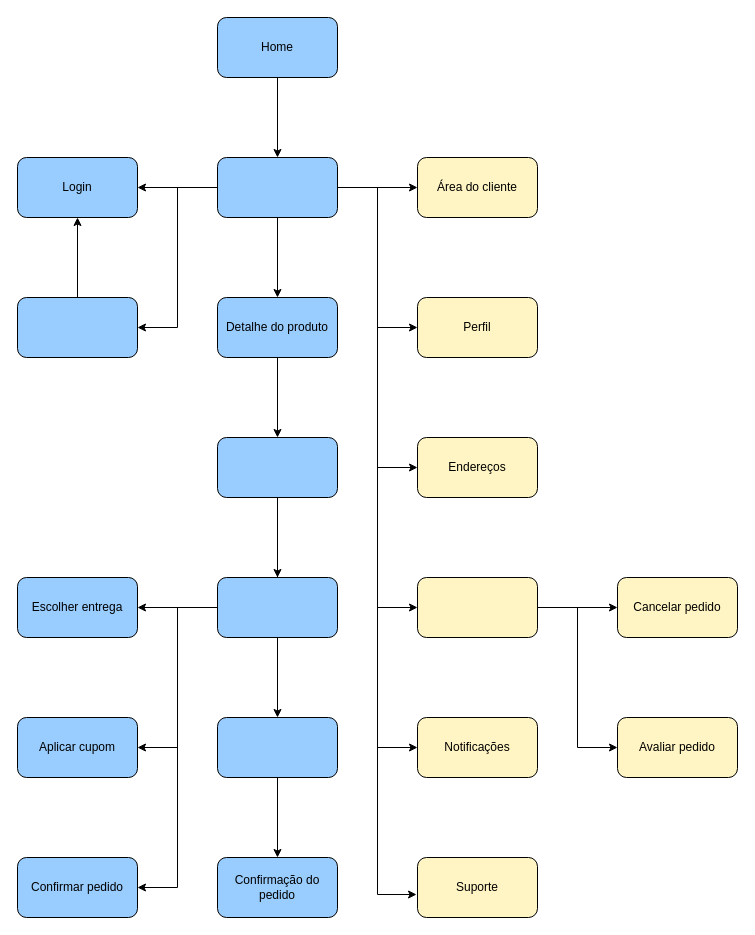
Image size: 755x935. Some labels were removed from this diagram. Here are the shapes that lost their labels. From the top down, the centre of each, then its label:
(x=277, y=187): Vitrine de Cupckaes
(x=77, y=327): Criar conta
(x=277, y=467): Adicionar ao carrinho
(x=277, y=607): Carrinho
(x=477, y=607): Histórico de pedidos
(x=277, y=747): Pagamento
